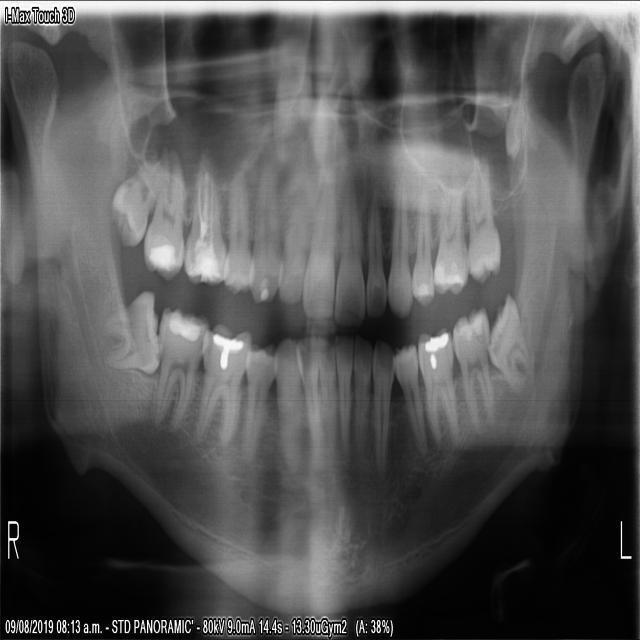LCD: (368, 334, 393, 482)
LCU: (383, 174, 412, 320)
LID: (351, 330, 371, 475), (331, 329, 351, 466)
LIU: (331, 170, 363, 327), (363, 180, 385, 316)
LMD: (447, 299, 492, 433), (414, 322, 458, 448), (484, 286, 531, 393)
LMU: (463, 153, 499, 288), (430, 168, 468, 295)
LPMD: (389, 336, 425, 455)
LPMU: (407, 172, 431, 306)
RCD: (269, 331, 302, 479)
RID: (292, 331, 322, 469), (311, 331, 335, 483)
RIU: (299, 171, 336, 318), (274, 154, 307, 303)
RMD: (192, 317, 251, 450), (150, 300, 210, 429), (98, 285, 163, 375)
RMU: (139, 146, 184, 281), (181, 152, 226, 285), (106, 155, 161, 249)
RPMD: (240, 341, 279, 458)
RPMU: (245, 161, 283, 305), (220, 165, 254, 294)
